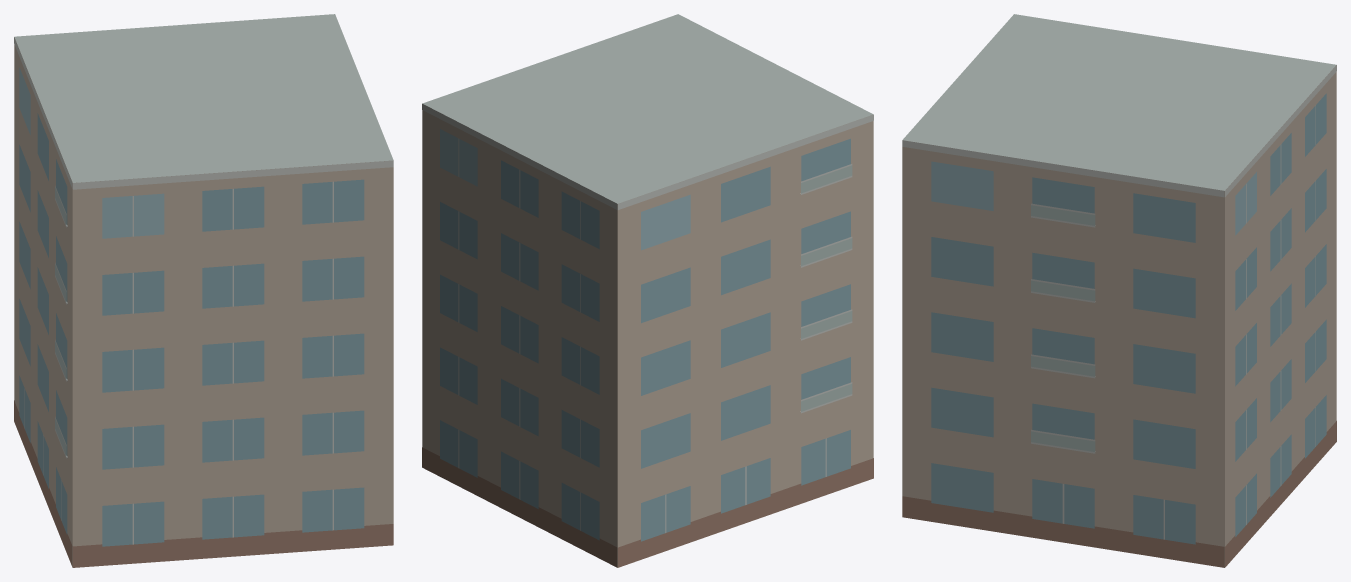
Rendered from survey-upis-32883508.glb.
3 renders of one model, left to right at view 1: azimuth 30°, elevation 25°; view 2: azimuth 150°, elevation 25°; view 3: azimuth 270°, elevation 25°, orthographic. The views are drawn at different scales.
Parts seen in each view (by area): view 1: survey-upis-32883508.tmp; view 2: survey-upis-32883508.tmp; view 3: survey-upis-32883508.tmp.
Boxes of the visible parts, <box> form: survey-upis-32883508.tmp: <box>14,14,393,567</box>; survey-upis-32883508.tmp: <box>422,14,873,567</box>; survey-upis-32883508.tmp: <box>902,14,1336,567</box>.
Size of the model in its own units: 13.99 by 13.9 by 14.53.
